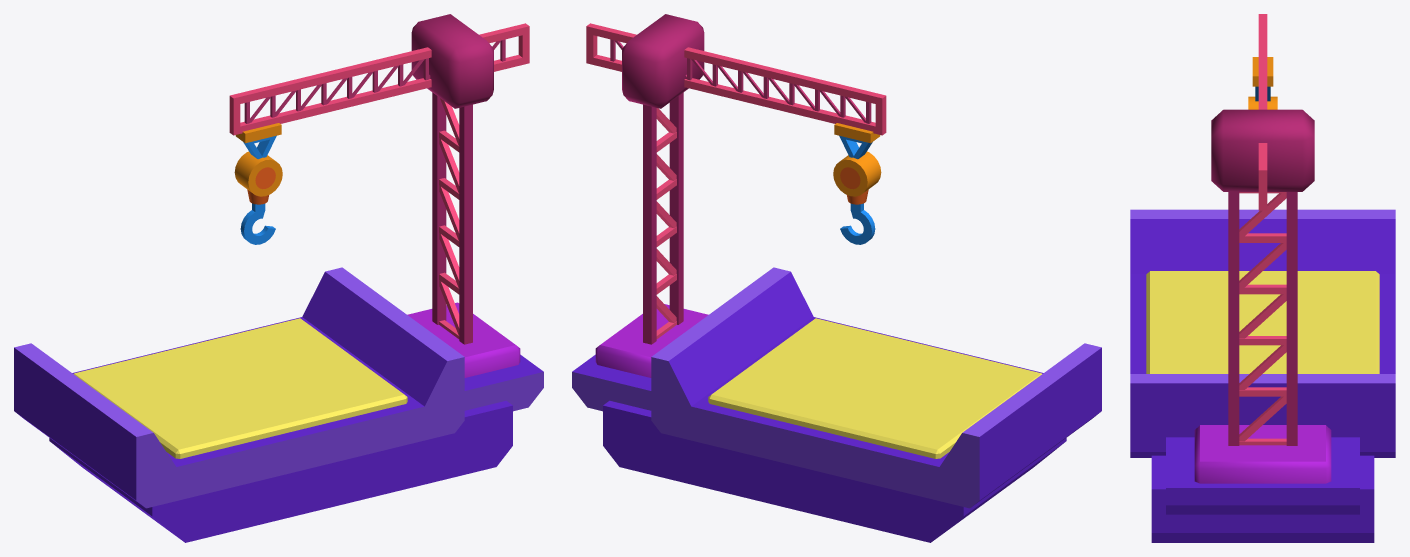
Rendered from Vehicle_011_b.fbx.
3 renders of one model, left to right at view 1: azimuth 30°, elevation 25°; view 2: azimuth 150°, elevation 25°; view 3: azimuth 270°, elevation 25°, orthographic. The views are drawn at different scales.
Parts seen in each view (by area): view 1: Vehicle_011_b_5, Vehicle_011_b_1, Vehicle_011_b_3, Vehicle_011_b_4, Vehicle_011_b_2; view 2: Vehicle_011_b_5, Vehicle_011_b_1, Vehicle_011_b_3, Vehicle_011_b_4, Vehicle_011_b_2; view 3: Vehicle_011_b_5, Vehicle_011_b_1, Vehicle_011_b_2.
Part boxes in pixels (x1,y1,x2,y2): Vehicle_011_b_5: (14, 267, 543, 542); Vehicle_011_b_1: (229, 14, 529, 377); Vehicle_011_b_3: (234, 151, 282, 196); Vehicle_011_b_4: (240, 189, 275, 244); Vehicle_011_b_2: (235, 123, 281, 159); Vehicle_011_b_5: (572, 267, 1101, 542); Vehicle_011_b_1: (586, 14, 886, 377); Vehicle_011_b_3: (833, 151, 881, 196); Vehicle_011_b_4: (840, 189, 875, 244); Vehicle_011_b_2: (834, 123, 880, 159); Vehicle_011_b_5: (1130, 209, 1395, 542); Vehicle_011_b_1: (1194, 14, 1331, 483); Vehicle_011_b_2: (1252, 57, 1273, 101).
Size of the model in its own units: 33.07 by 27.68 by 15.5.
